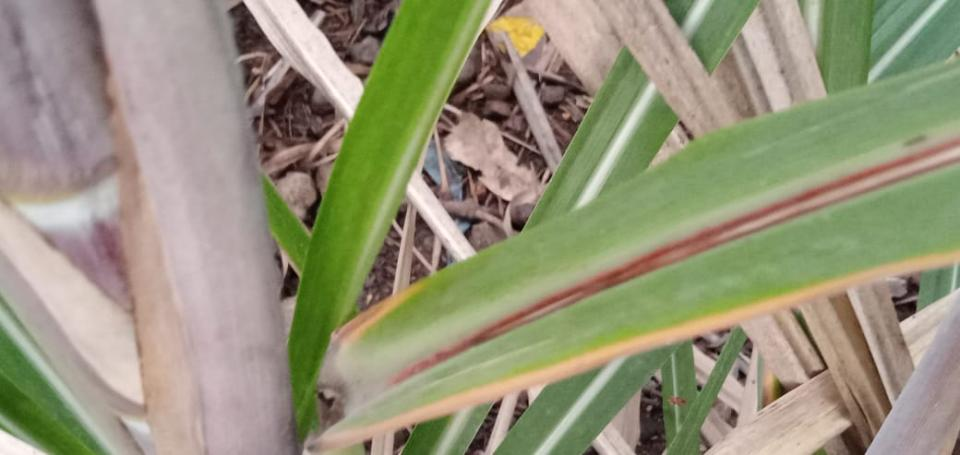RedRot: (386, 136, 959, 388)
Rust: (900, 133, 928, 148)
Yellow: (320, 248, 959, 450), (334, 282, 426, 350)
